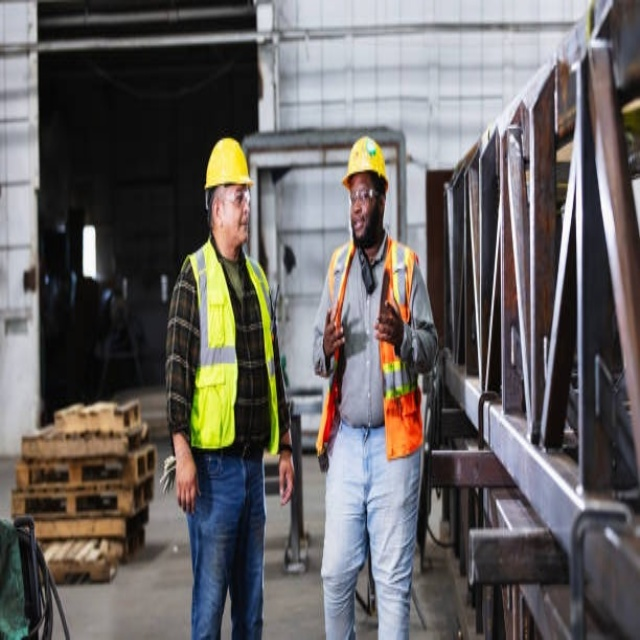Gafas: (351, 186, 385, 209), (218, 186, 253, 203)
Sin_guantes: (372, 298, 404, 350), (174, 458, 201, 518), (321, 304, 346, 350), (276, 450, 294, 506)
Sin_mascara: (232, 209, 251, 237), (353, 216, 367, 230)
